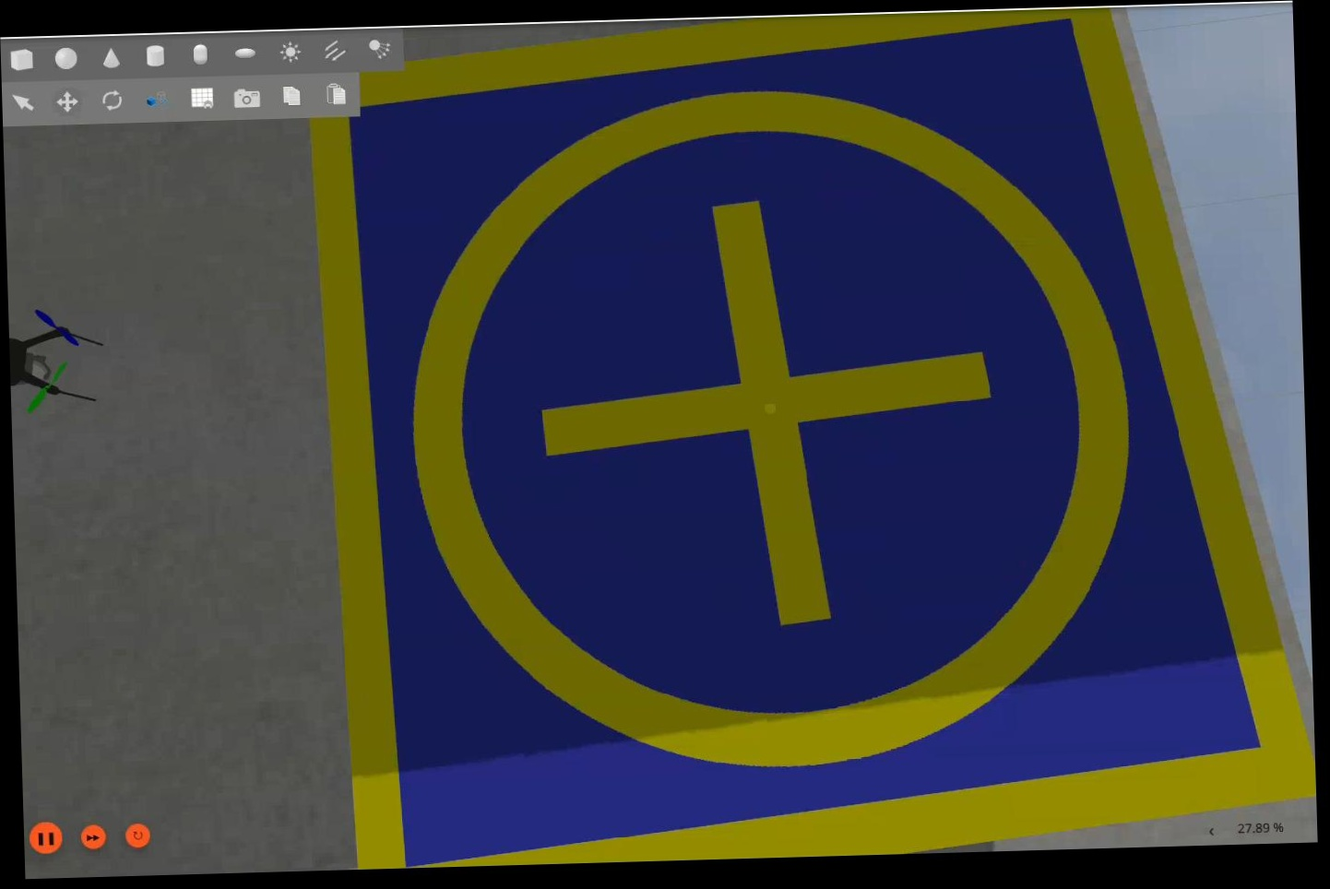small_base: (303, 0, 1323, 878)
